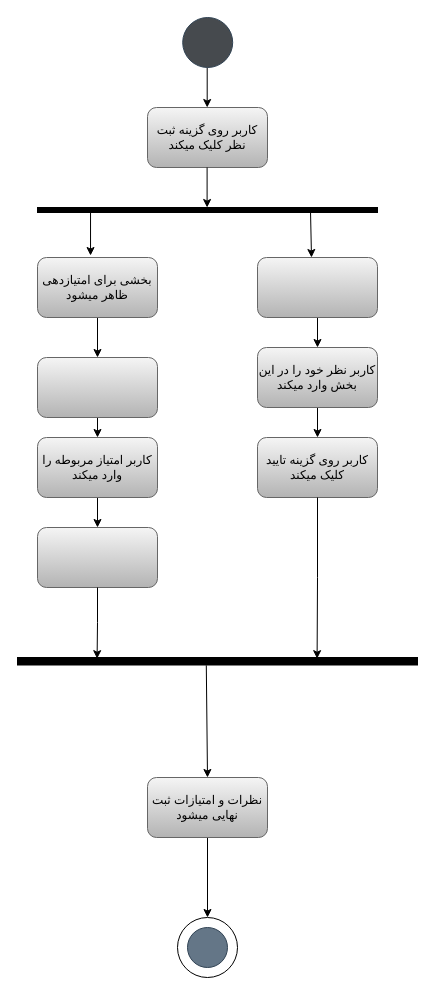
This 435x995 diagram has some shape labels left out. Here are the shapes that lost their labels. From the top down, the centre of each, then its label:
At pixel 317 287: "بخشی برای ثبت نظر ظاهر میشود".
At pixel 97 387: "کاربر وکیل/عریضه نویس موردنظر خود را انتخاب میکند".
At pixel 97 557: "امتیاز داده شده در پروفایل وکیل / عریضه نویس اعمال میشود".
